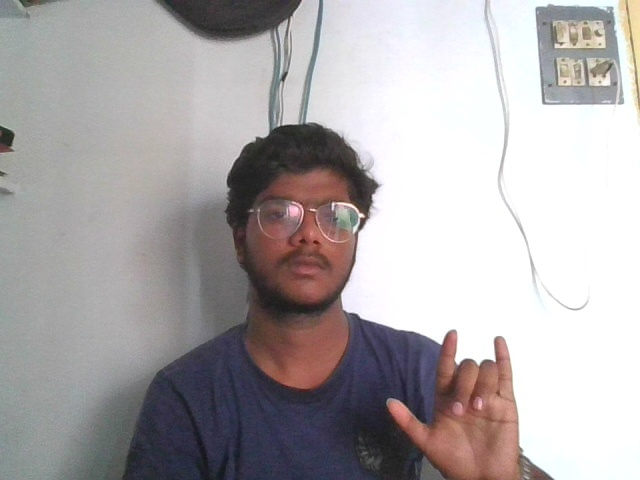IloveYou: (383, 321, 522, 480)
